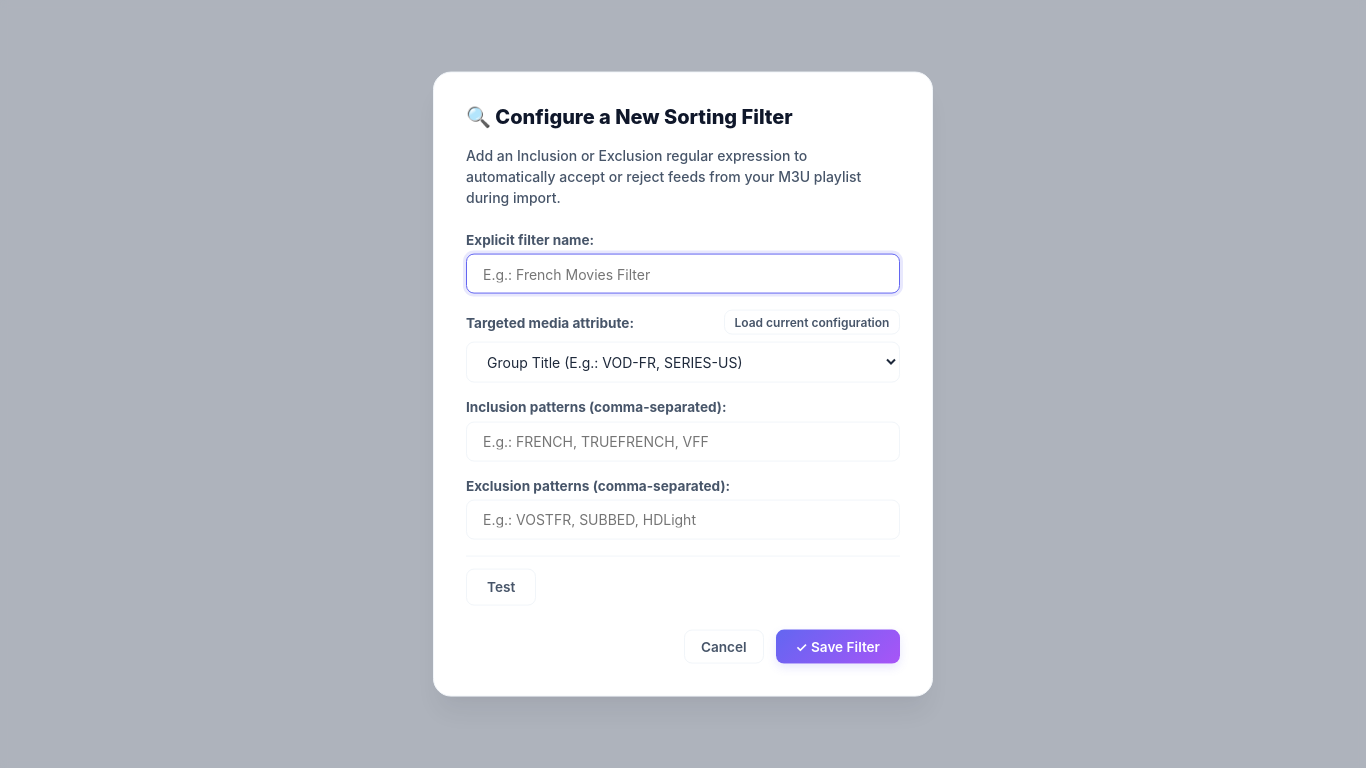
Test case: CreateFilterDialog › dry-run testing › reflects the tvg_name attribute in the drawer title
Select "TVG Name (E.g.: Inception.2010.mkv)" in the dropdown showing "Group Title (E.g.: VOD-FR, SERIES-US)" at (683, 362), box [466,341,900,383]
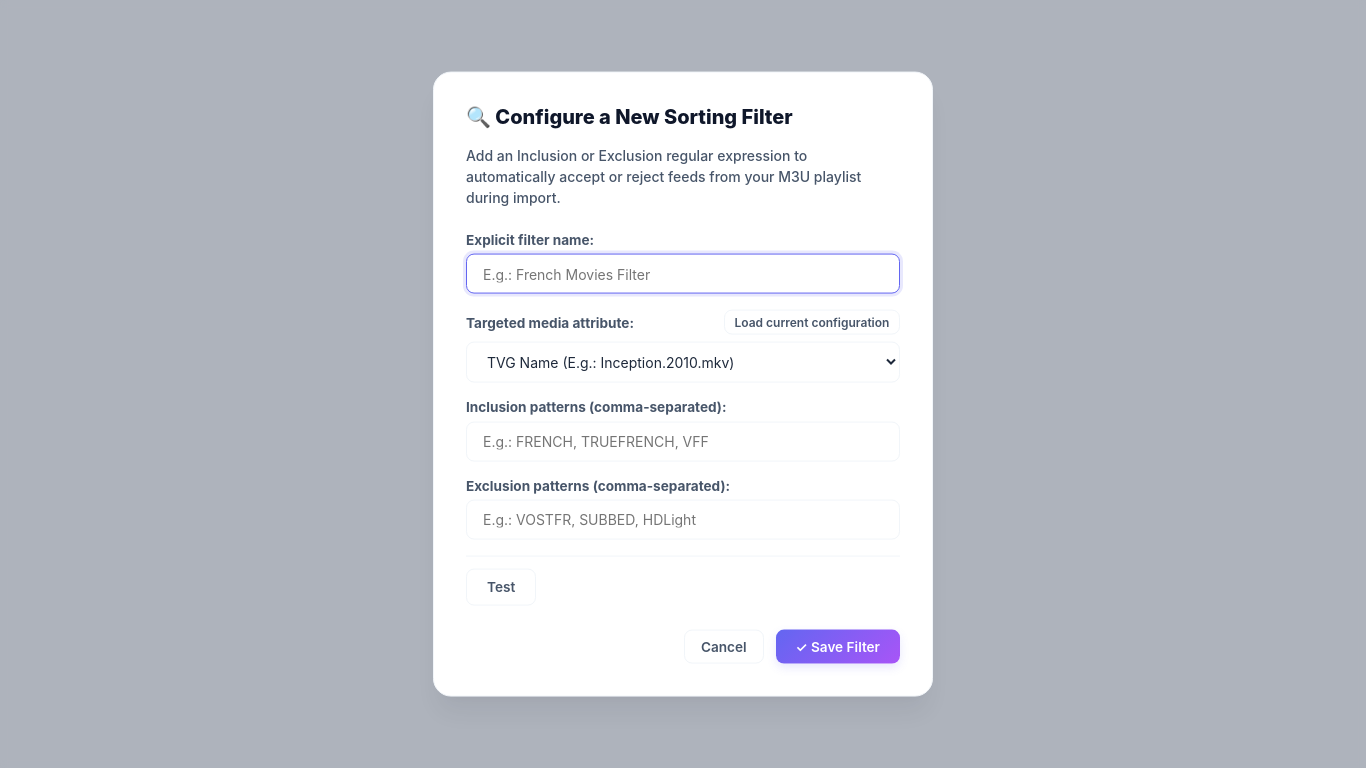
Click the button "Test" at (501, 587), box [466,568,536,606]
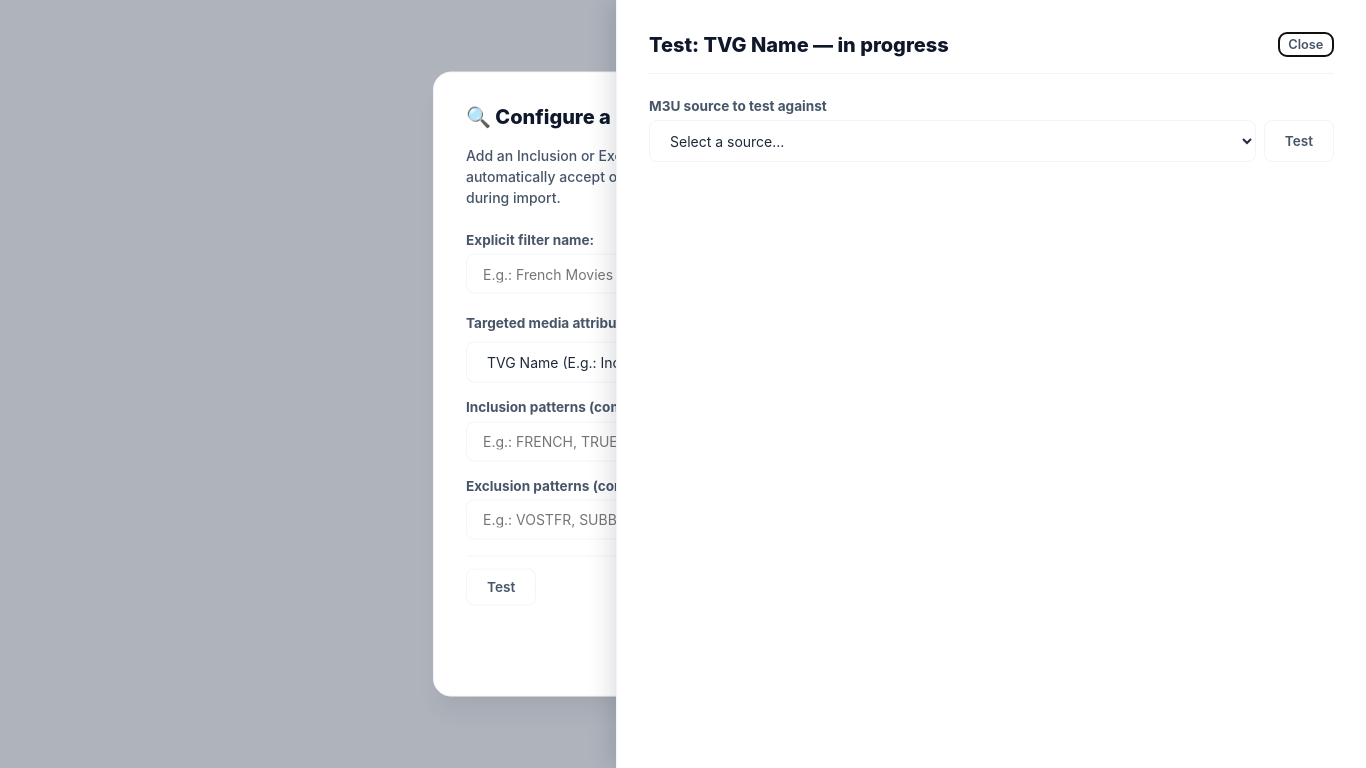
Check: the heading "Test: TVG Name — in progress" is shown, box [649,32,949,56]
